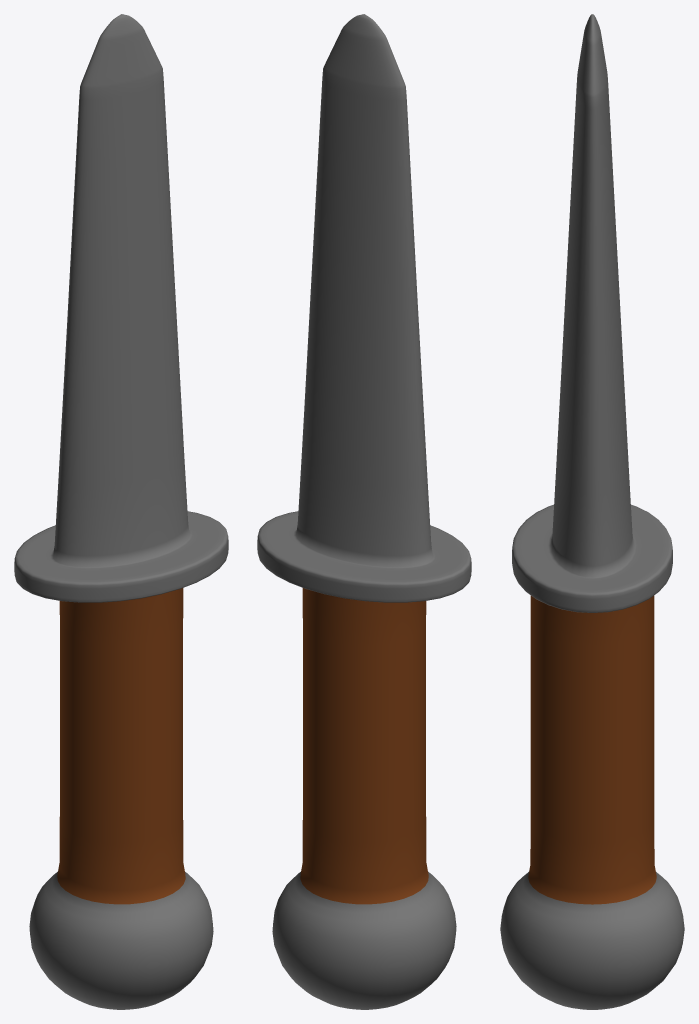
File: Bcak.fbx
3 views of the same model, side by side, from view 1: azimuth 30°, elevation 25°; view 2: azimuth 150°, elevation 25°; view 3: azimuth 270°, elevation 25° (orthographic).
Visible parts, largest first — view 1: Sphere; view 2: Sphere; view 3: Sphere.
Boxes of the visible parts, x1=… form: Sphere: x1=14, y1=14, x2=228, y2=1009; Sphere: x1=257, y1=14, x2=471, y2=1009; Sphere: x1=500, y1=14, x2=684, y2=1009.
Bounding box in the file's own units: 14.06 × 66.85 × 11.33.
